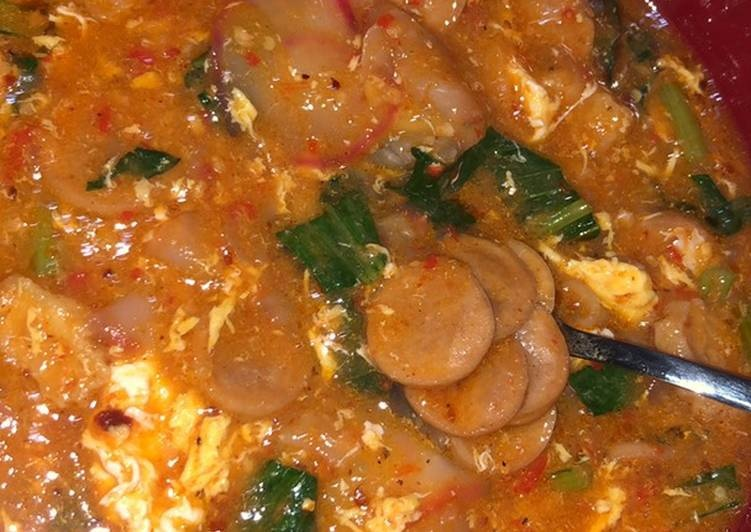seblak: (3, 1, 751, 532)
